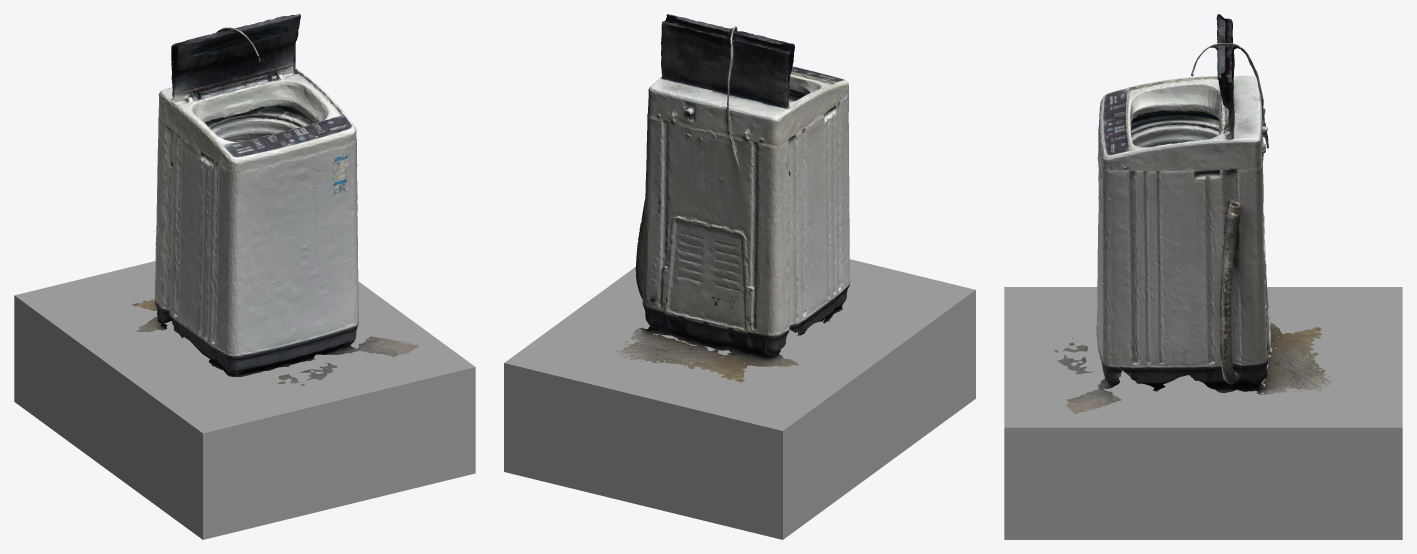
Rendered from wash.fbx.
3 renders of one model, left to right at view 1: azimuth 30°, elevation 25°; view 2: azimuth 150°, elevation 25°; view 3: azimuth 270°, elevation 25°, orthographic. The views are drawn at different scales.
Visible parts, largest first — view 1: pCube2; view 2: pCube2; view 3: pCube2.
Boxes of the visible parts, bbox=[...] form: pCube2: bbox=[14, 14, 475, 539]; pCube2: bbox=[504, 14, 975, 539]; pCube2: bbox=[1004, 14, 1402, 539].
Size of the model in its own units: 1 by 1.41 by 1.2.
Materials: 2 (1 with a texture image).
